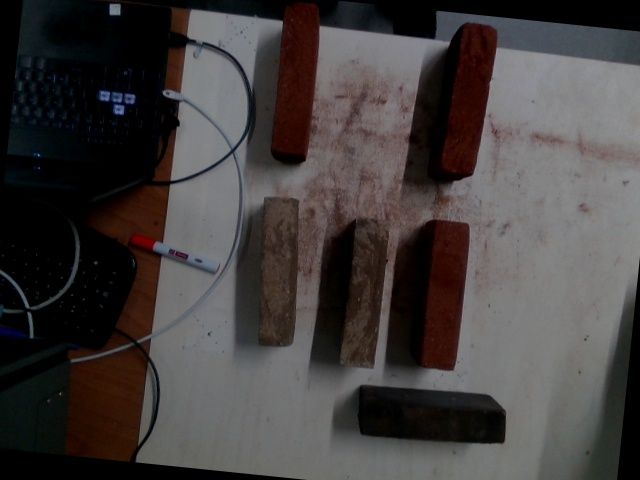brick-side: (442, 24, 498, 176), (341, 220, 389, 371), (423, 221, 470, 372), (273, 3, 319, 154), (363, 401, 505, 446), (257, 197, 294, 347)
